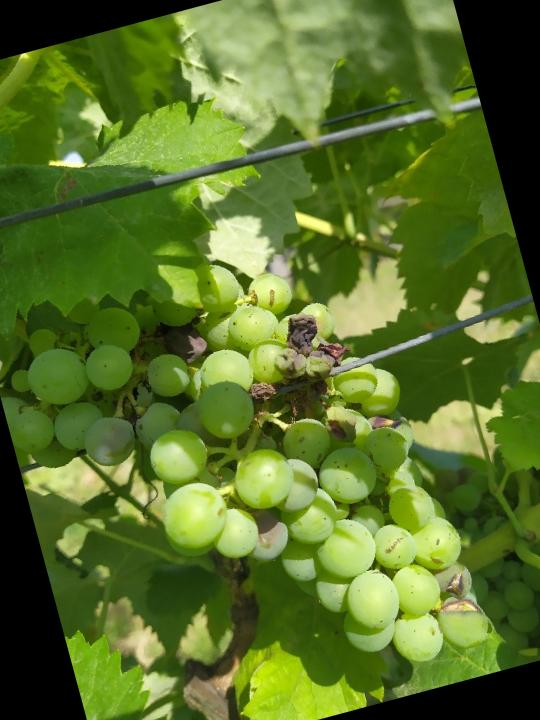grape: (0, 220, 498, 720)
